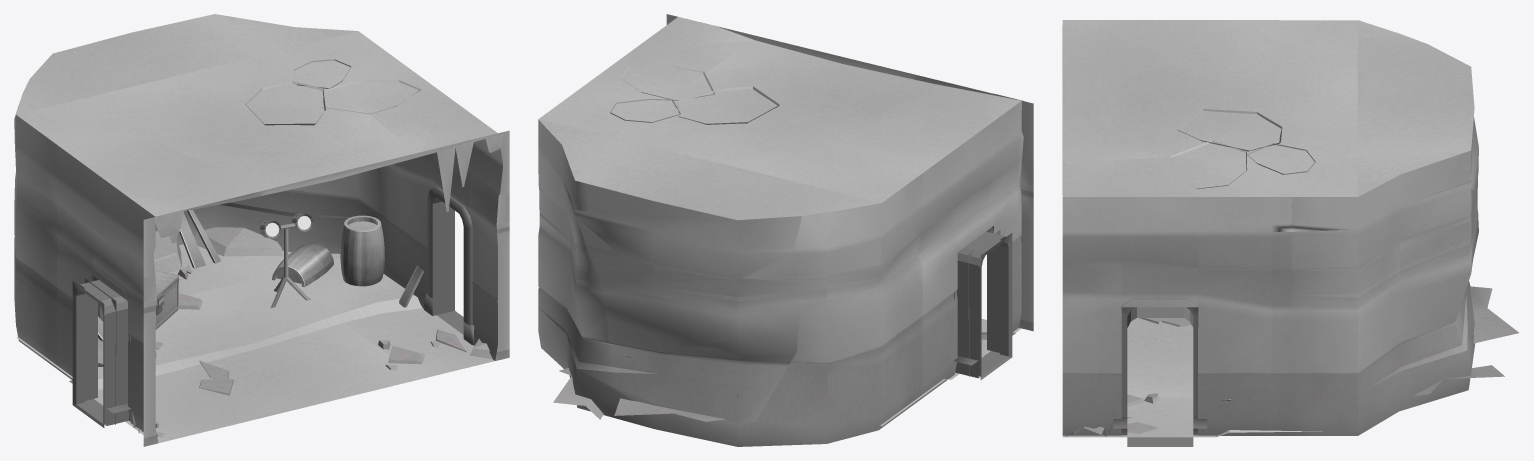
File: MSH_QuestCave_L1_R1_optimized.fbx
The picture shows the model from 3 angles, left to right: view 1: azimuth 30°, elevation 25°; view 2: azimuth 150°, elevation 25°; view 3: azimuth 270°, elevation 25°; orthographic projection. The views are drawn at different scales.
Parts seen in each view (by area): view 1: lightmap0, lightmap1; view 2: lightmap0; view 3: lightmap0.
Part boxes in pixels (box(x1,y1,x2,y2)): lightmap0: box(14, 14, 509, 446); lightmap1: box(272, 215, 384, 286); lightmap0: box(538, 14, 1033, 446); lightmap0: box(1062, 20, 1518, 446).
Size of the model in its own units: 10.37 by 6.04 by 10.16.
